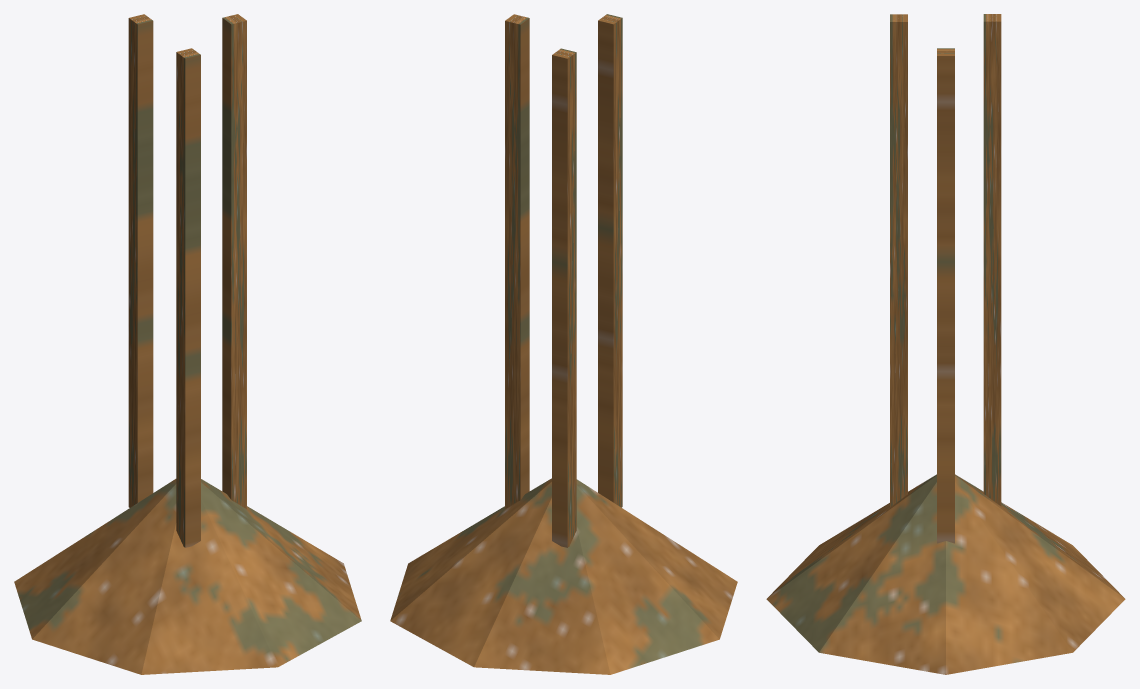
Rendered from rival_censer.obj.
3 views of the same model, side by side, from view 1: azimuth 30°, elevation 25°; view 2: azimuth 150°, elevation 25°; view 3: azimuth 270°, elevation 25° (orthographic).
Parts seen in each view (by area): view 1: rival_censer; view 2: rival_censer; view 3: rival_censer.
Part boxes in pixels (x1=…): rival_censer: x1=14, y1=14, x2=361, y2=674; rival_censer: x1=390, y1=14, x2=737, y2=674; rival_censer: x1=766, y1=14, x2=1125, y2=674.
Bounding box in the file's own units: 0.25 × 0.4725 × 0.25.
